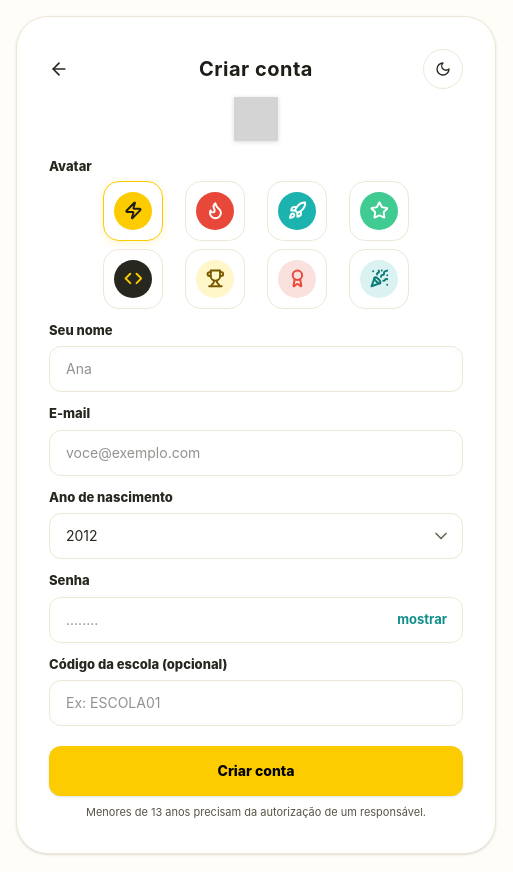
Integração de CTAs - Landing Page e Aplicação do Aluno › 8. Cadastro com idade >= 13 segue para /app/onboarding
The width and height of the screenshot is (513, 872).
Type "Lucas Teen" into the field labelled "Seu nome". click: (256, 369)
box: [49, 346, 463, 392]
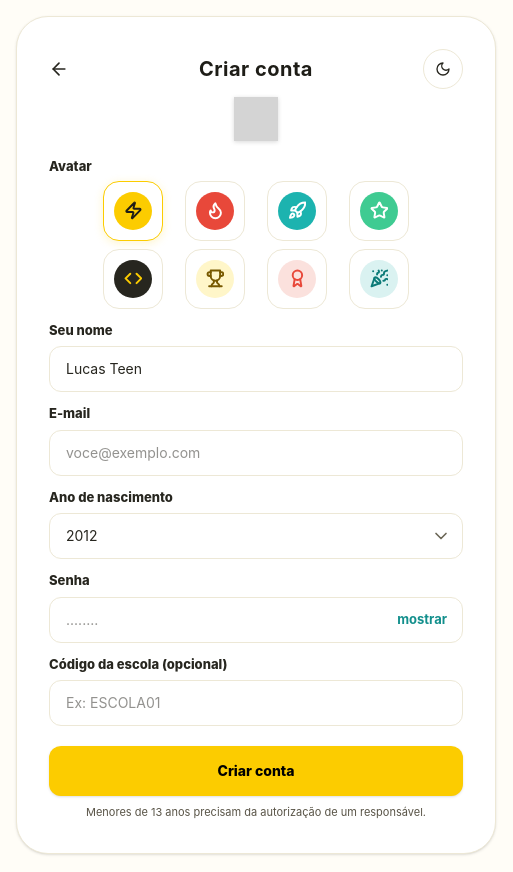
Type "lucas@exemplo.com" into the field labelled "E-mail". click: (256, 453)
box: [49, 430, 463, 476]
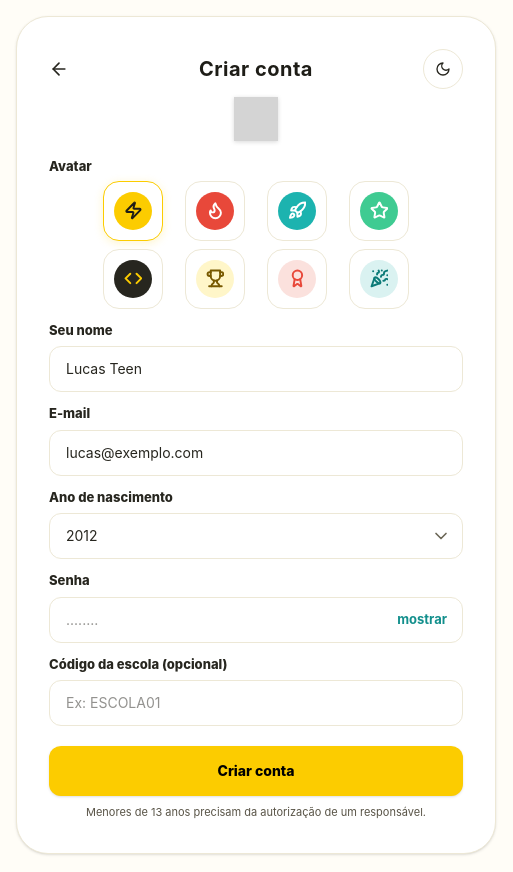
Select "2008" in the dropdown labelled "Ano de nascimento". click: (256, 536)
box: [49, 513, 463, 559]
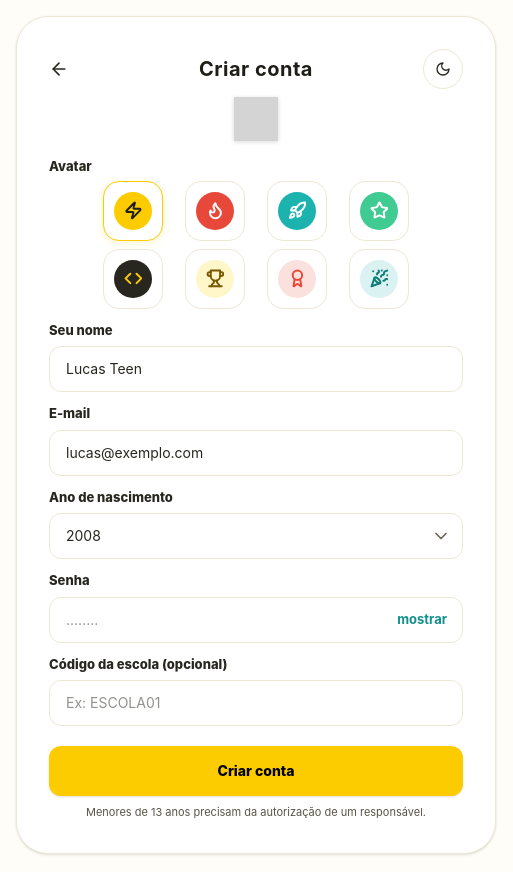
Type "123456" into the password field labelled "Senha". click: (256, 620)
box: [49, 597, 463, 643]
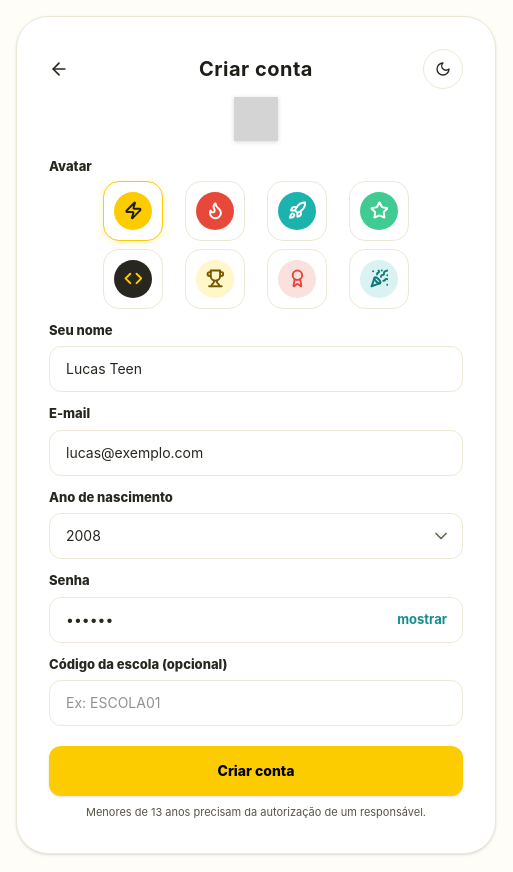
Click the button "Criar conta". click: click(256, 771)
box: [49, 746, 463, 796]
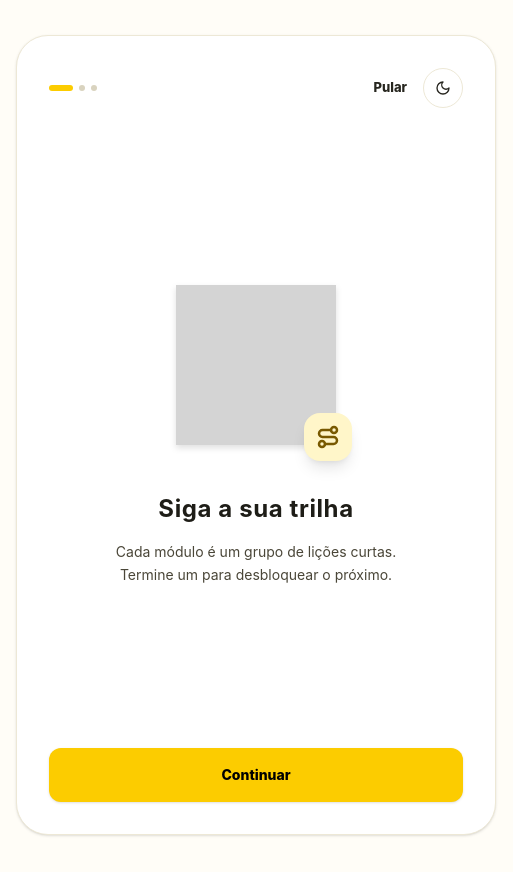
Result: the heading "Siga a sua trilha" is shown at [158, 494, 354, 523]
